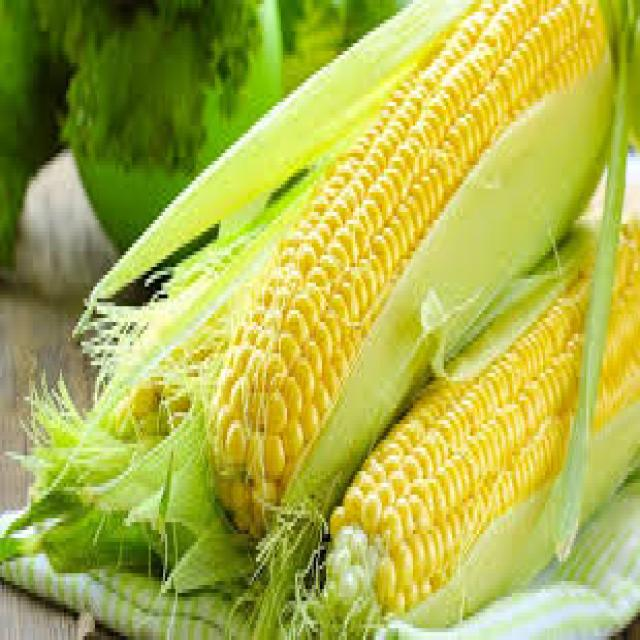corn: (199, 0, 617, 561), (310, 217, 640, 640)
